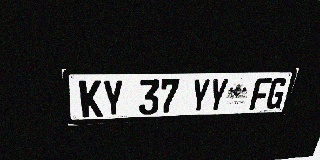3: (139, 79, 160, 115)
7: (158, 79, 179, 114)
F: (249, 78, 272, 110)
G: (265, 77, 288, 109)
K: (79, 80, 103, 118)
Y: (102, 80, 123, 117), (189, 79, 211, 113), (207, 78, 229, 112)
